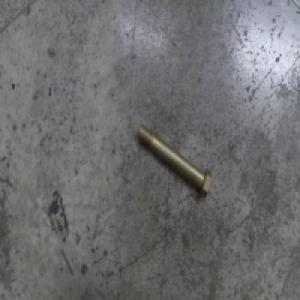Bolt: (137, 122, 212, 201)
